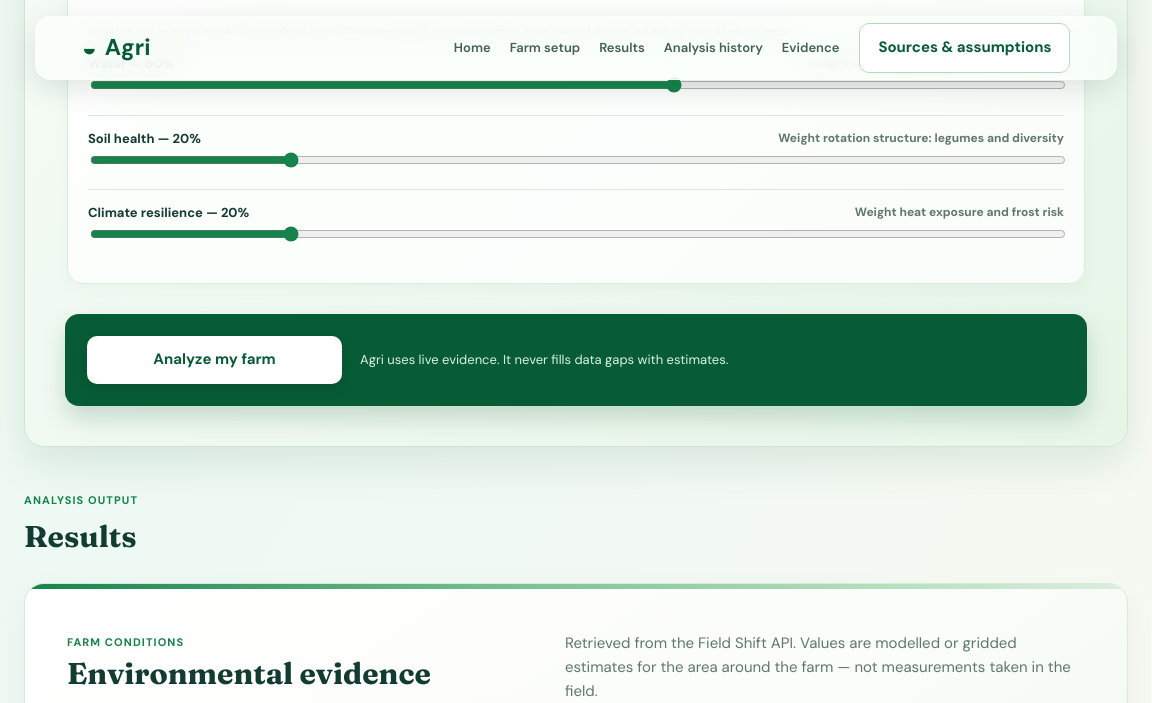
Test: Field Shift application › explains unavailable SoilGrids data instead of showing a value
The image size is (1152, 703).
(page scrolled)
Click the button "Analyze my farm". click: (214, 360)
box: 87,336 -> 342,384
(page scrolled)
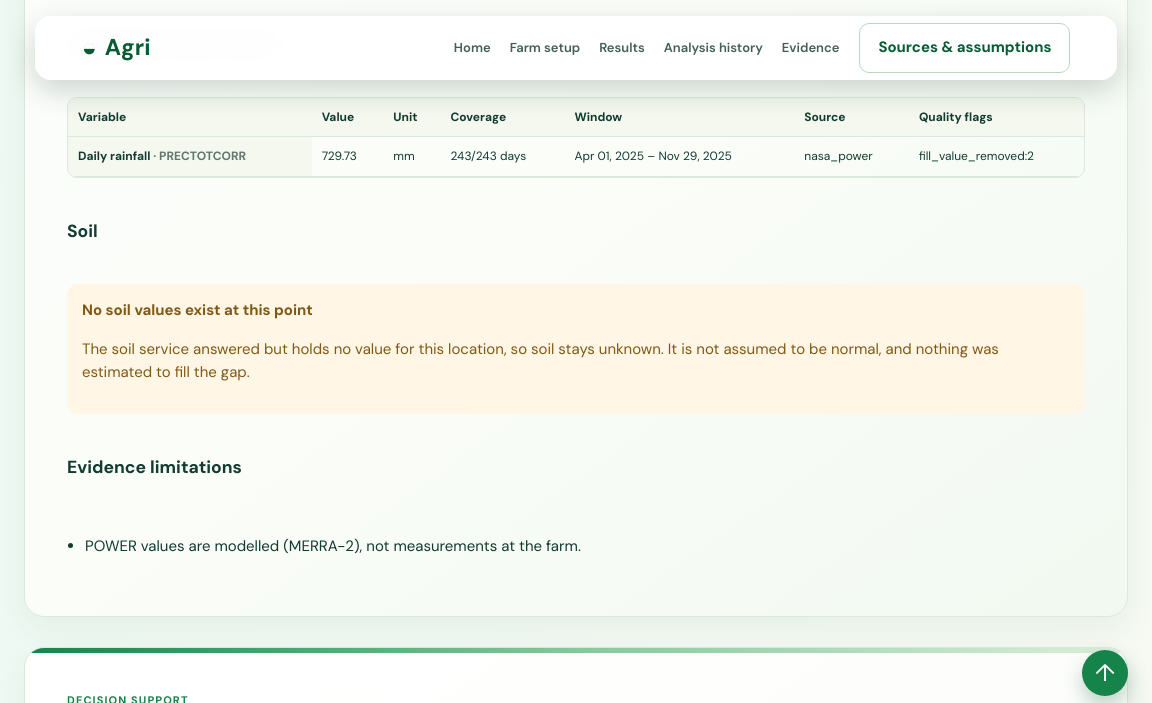
Check: the text "No soil values exist at this point" is shown, box 82,300 -> 313,320
Check: the text "soil stays unknown" is shown, box 82,339 -> 999,382
